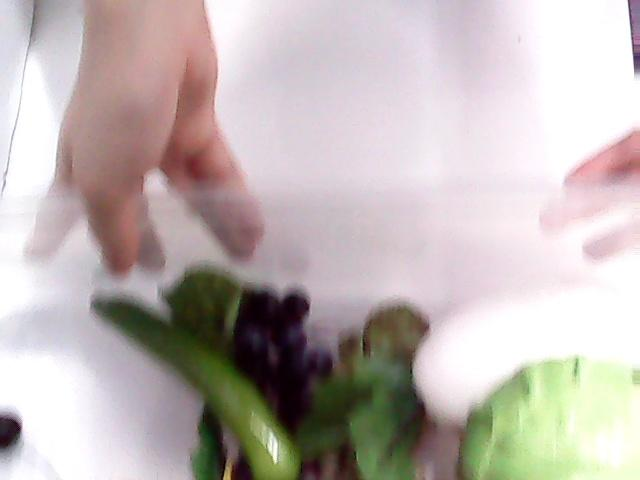cabbage: (452, 347, 639, 480)
grape: (158, 260, 334, 479)
pepper: (83, 284, 300, 480)
radish: (296, 282, 640, 480)
